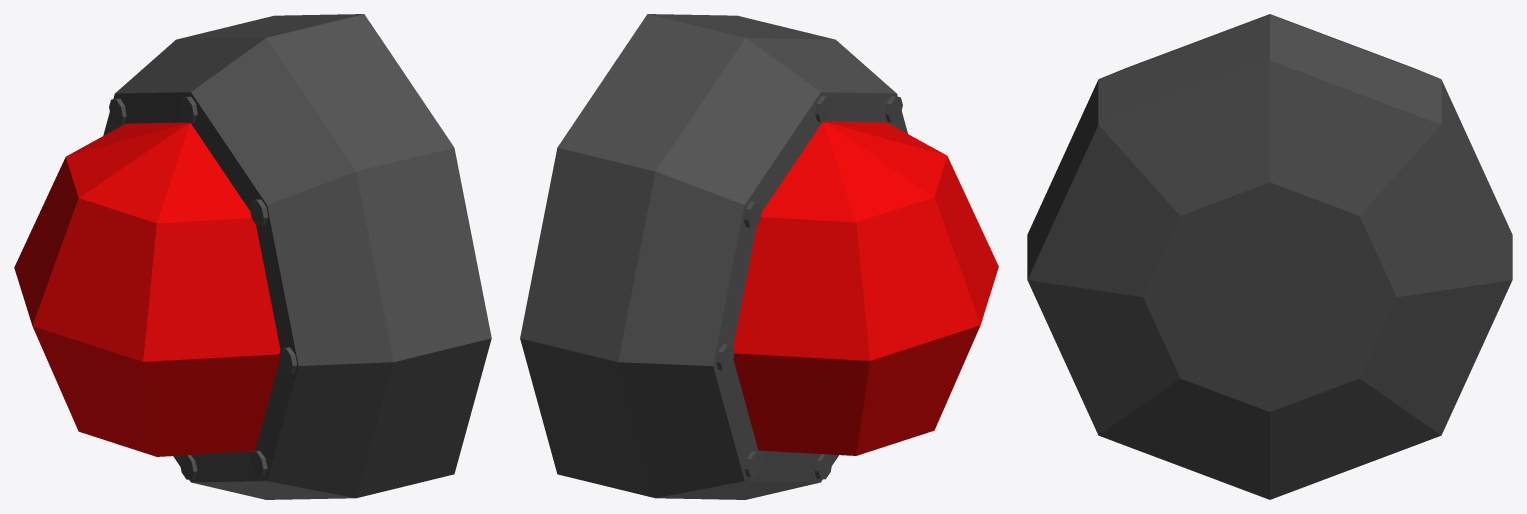
Rendered from Nez_1.FBX.
3 renders of one model, left to right at view 1: azimuth 30°, elevation 25°; view 2: azimuth 150°, elevation 25°; view 3: azimuth 270°, elevation 25°, orthographic. The views are drawn at different scales.
Parts seen in each view (by area): view 1: Sphere001; view 2: Sphere001; view 3: Sphere001.
Boxes of the visible parts, x1,y1,x2,y2 form: Sphere001: [14, 14, 491, 499]; Sphere001: [520, 14, 998, 499]; Sphere001: [1027, 14, 1512, 499].
Size of the model in its own units: 30.86 by 36.89 by 36.89.
